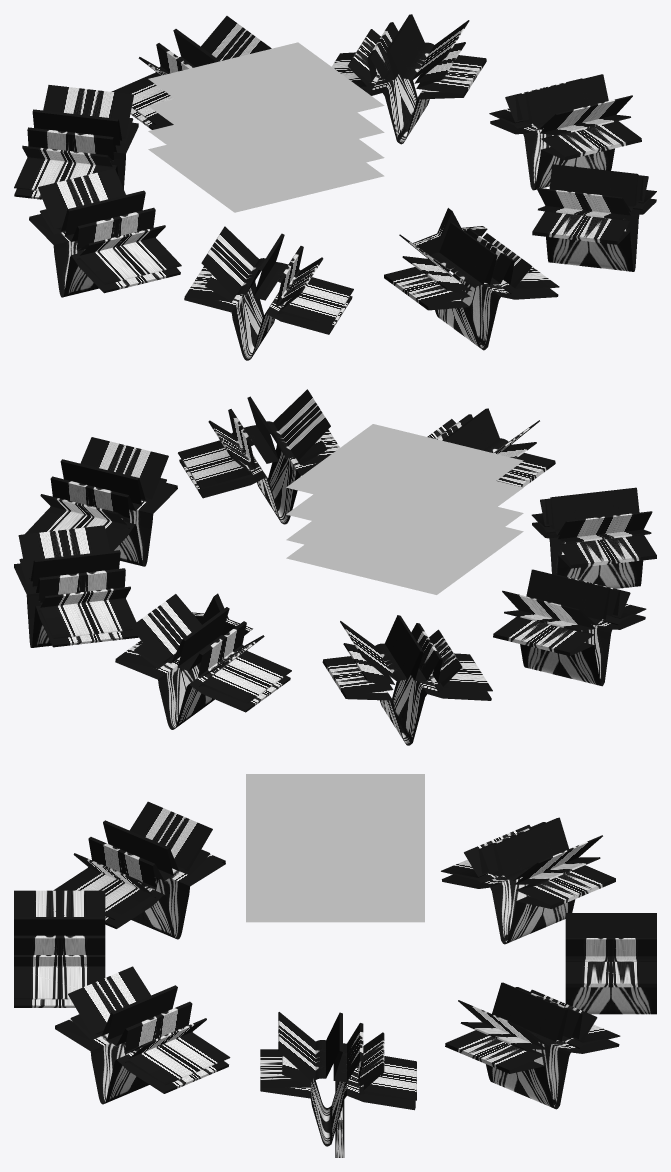
3 views of the same model, one above another, from view 1: azimuth 30°, elevation 25°; view 2: azimuth 150°, elevation 25°; view 3: azimuth 270°, elevation 25° (orthographic). The views are drawn at different scales.
Parts seen in each view (by area): view 1: no_alpha (×4), no_alpha.2, no_alpha.3, no_alpha.4, no_alpha.5, no_alpha.6, no_alpha.1, no_alpha.7, no_alpha.8, Cap_1; view 2: no_alpha (×4), no_alpha.8, no_alpha.7, no_alpha.6, no_alpha.2, no_alpha.1, no_alpha.5, no_alpha.3, no_alpha.4; view 3: no_alpha (×4), no_alpha.5, no_alpha.3, no_alpha.7, no_alpha.1, no_alpha.6, no_alpha.4, no_alpha.8.
Part boxes in pixels (bbox=[...]): no_alpha (×4): bbox=[148, 42, 384, 212]; no_alpha.2: bbox=[29, 168, 181, 297]; no_alpha.3: bbox=[184, 226, 353, 360]; no_alpha.4: bbox=[384, 222, 559, 350]; no_alpha.5: bbox=[532, 164, 656, 271]; no_alpha.6: bbox=[489, 74, 641, 190]; no_alpha.1: bbox=[14, 85, 138, 199]; no_alpha.7: bbox=[331, 14, 486, 144]; no_alpha.8: bbox=[111, 16, 271, 129]; Cap_1: bbox=[417, 211, 487, 271]; no_alpha (×4): bbox=[286, 424, 523, 594]; no_alpha.8: bbox=[115, 594, 291, 729]; no_alpha.7: bbox=[14, 525, 138, 647]; no_alpha.6: bbox=[25, 437, 177, 566]; no_alpha.2: bbox=[493, 569, 646, 686]; no_alpha.1: bbox=[322, 615, 492, 745]; no_alpha.5: bbox=[178, 389, 339, 524]; no_alpha.3: bbox=[531, 487, 656, 588]; no_alpha.4: bbox=[427, 408, 555, 487]; no_alpha (×4): bbox=[246, 774, 424, 922]; no_alpha.5: bbox=[55, 966, 230, 1104]; no_alpha.3: bbox=[53, 801, 225, 939]; no_alpha.7: bbox=[445, 982, 620, 1109]; no_alpha.1: bbox=[441, 817, 615, 944]; no_alpha.6: bbox=[260, 1012, 416, 1146]; no_alpha.4: bbox=[14, 890, 105, 1007]; no_alpha.8: bbox=[565, 913, 656, 1014].
Size of the model in its own units: 1438 by 596 by 1438.
2 materials, 1 textured.
